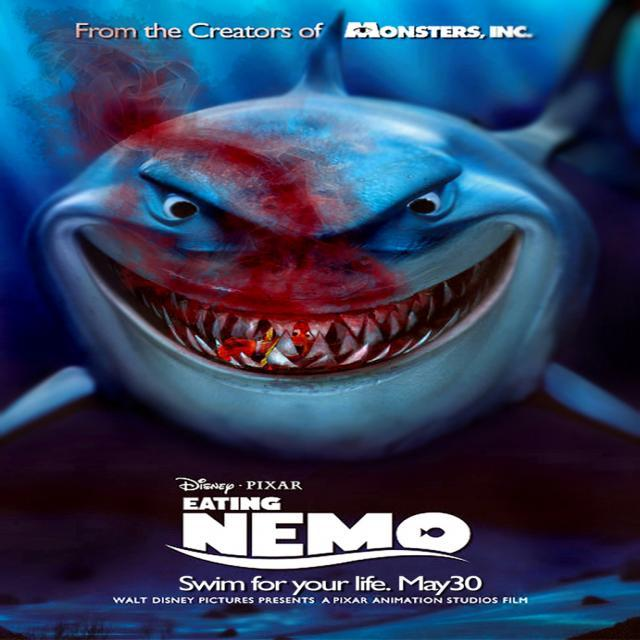Shark: (1, 9, 640, 464)
